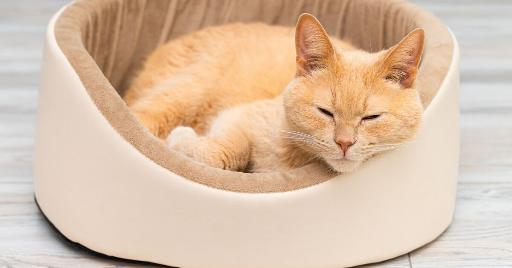cat_sleeping: (124, 14, 425, 173), (271, 119, 272, 121)
